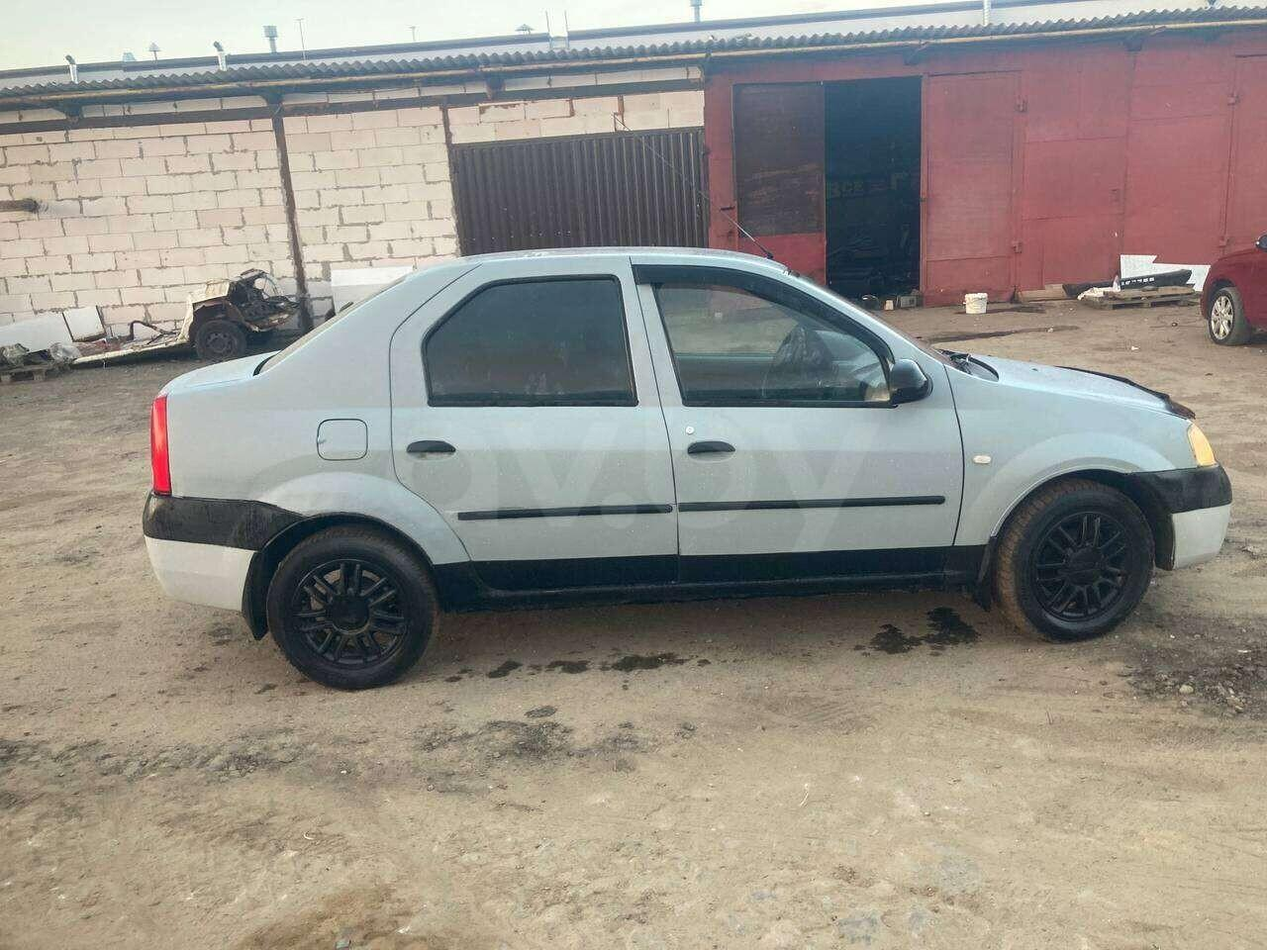Logan_2004-2009: (132, 242, 1235, 688)
